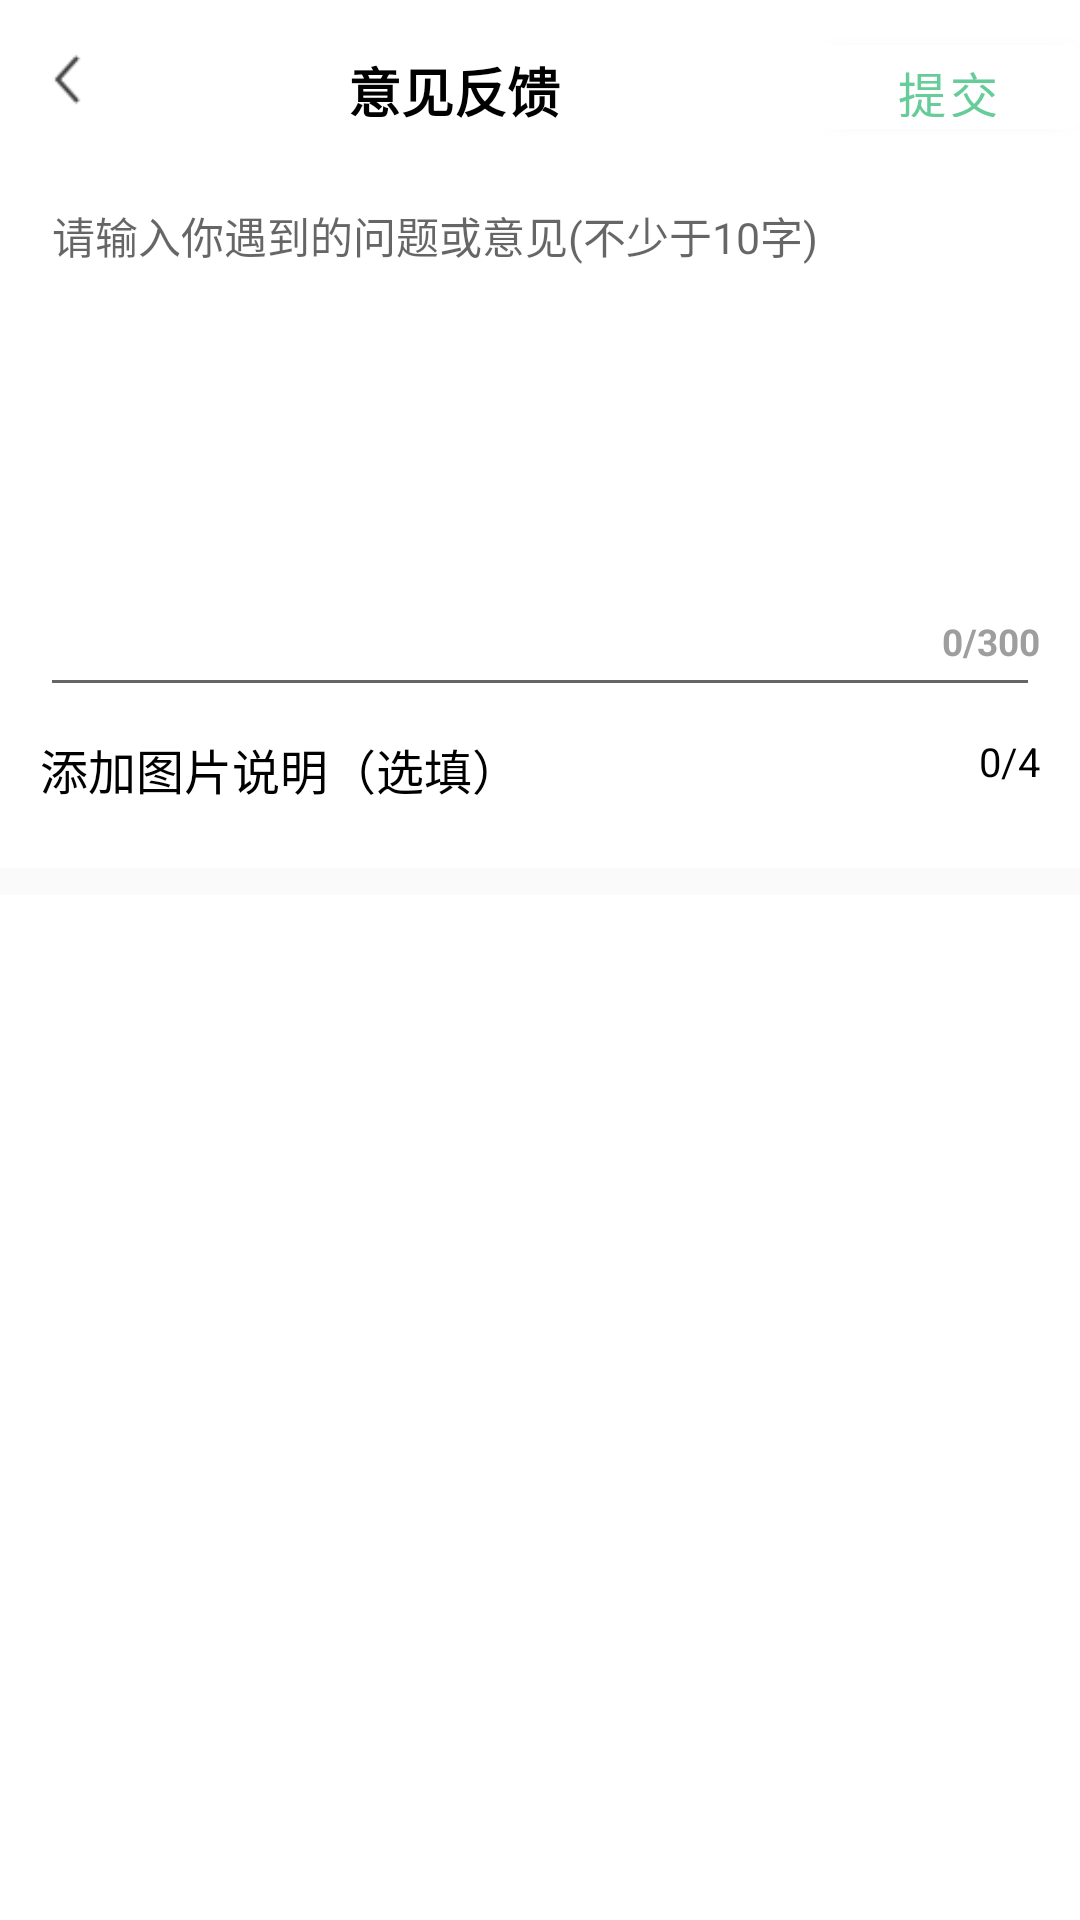

Where icons sit on this 1080 × 1920 app screen, as (x1, y1, x2, y2):
返回: (55, 55, 80, 104)
